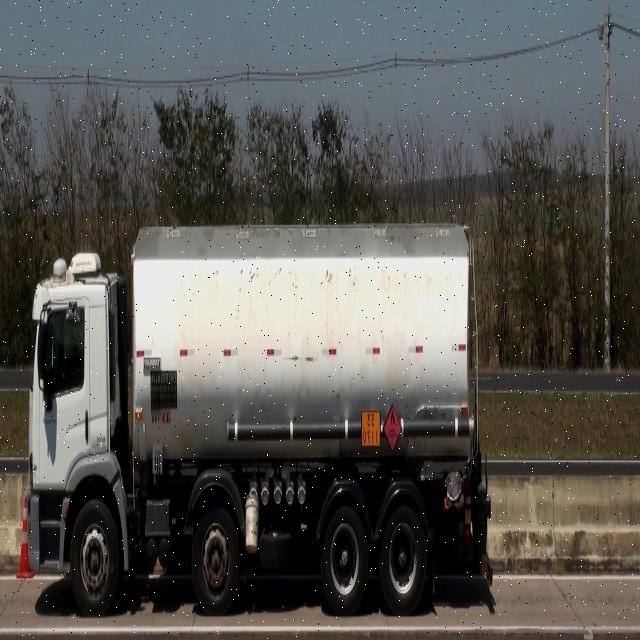-axle: (68, 493, 119, 619), (322, 501, 369, 616), (378, 502, 427, 611), (190, 508, 240, 612)
